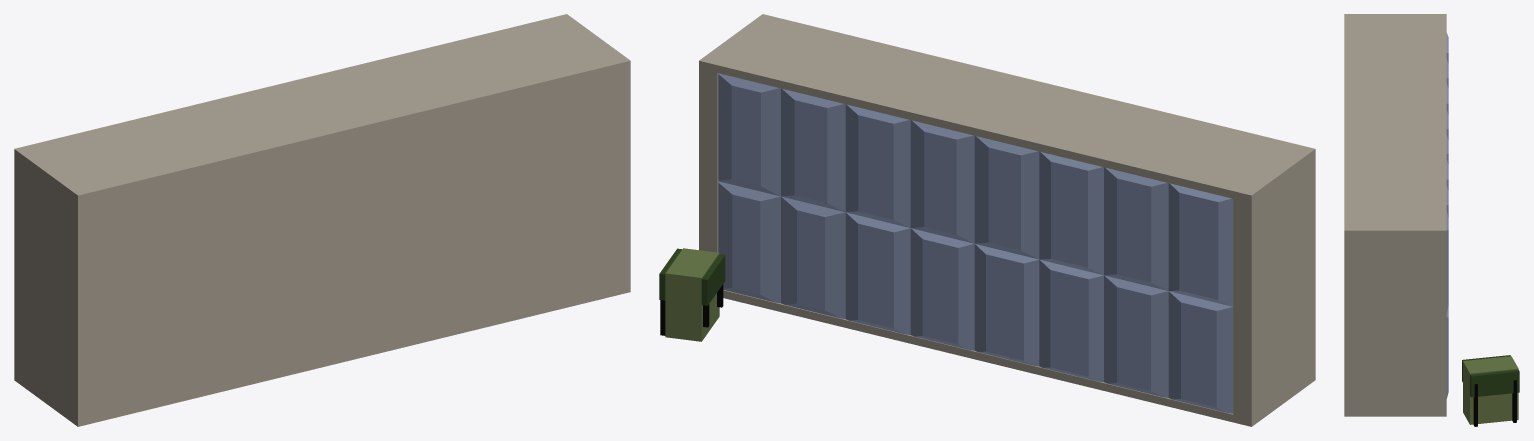
The model's file is LockersNew.fbx.
The picture shows the model from 3 angles, left to right: view 1: azimuth 30°, elevation 25°; view 2: azimuth 150°, elevation 25°; view 3: azimuth 270°, elevation 25°; orthographic projection. The views are drawn at different scales.
Parts seen in each view (by area): view 1: Cube.039; view 2: Plane, Cube.039, Cube.044, Cube.046; view 3: Cube.039, Cube.044, Cube.046, Plane, Cube.048.
Part boxes in pixels (bbox=[...]): Cube.039: bbox=[14, 14, 630, 426]; Plane: bbox=[718, 73, 1233, 413]; Cube.039: bbox=[699, 14, 1315, 426]; Cube.044: bbox=[665, 248, 719, 341]; Cube.046: bbox=[659, 248, 725, 305]; Cube.039: bbox=[1344, 14, 1446, 416]; Cube.044: bbox=[1463, 356, 1518, 424]; Cube.046: bbox=[1462, 355, 1519, 397]; Plane: bbox=[1446, 33, 1448, 398]; Cube.048: bbox=[1473, 380, 1516, 426].
Bounding box in the file's own units: 809 × 334 × 274.
